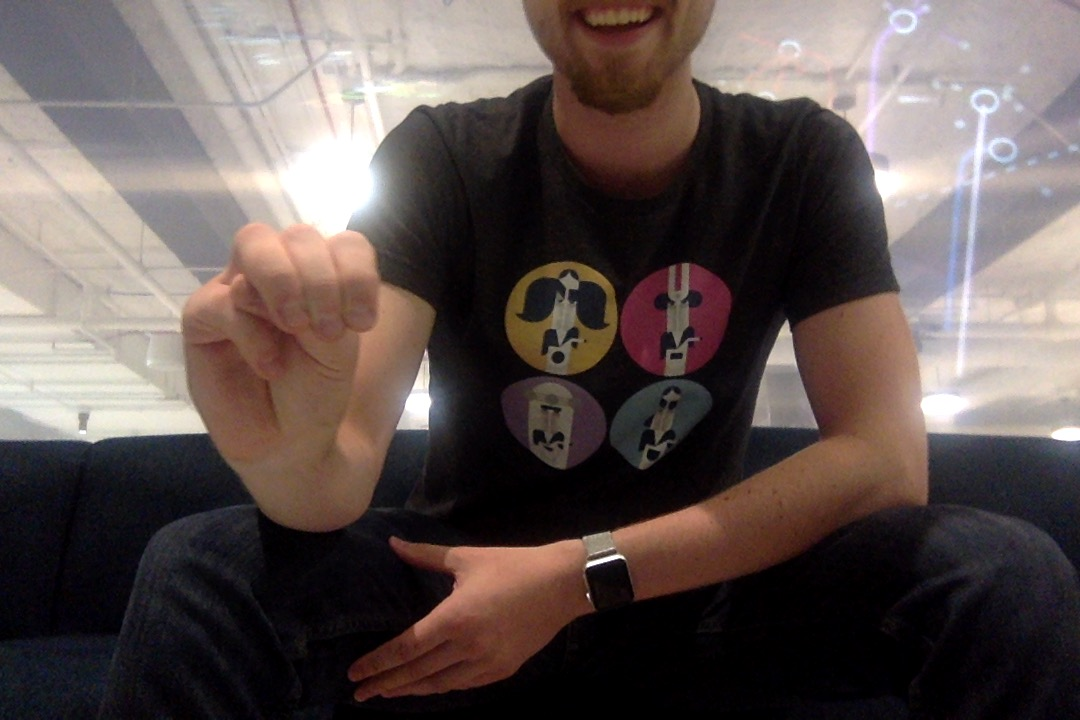m: (176, 216, 385, 450)
